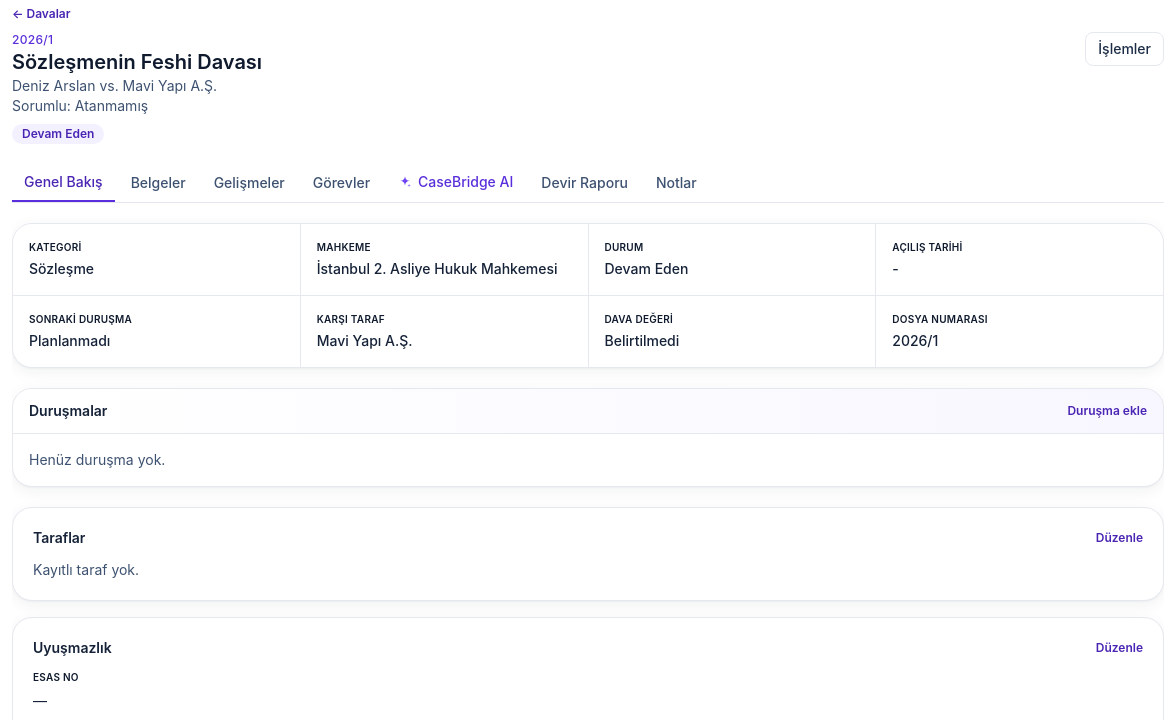
Test case: CaseDetailView › adds a development event to the timeline
Expected: the heading "Sözleşmenin Feshi Davası" is shown, [12, 48, 262, 76]
Click the tab "Gelişmeler" at (249, 183), box [202, 164, 297, 202]
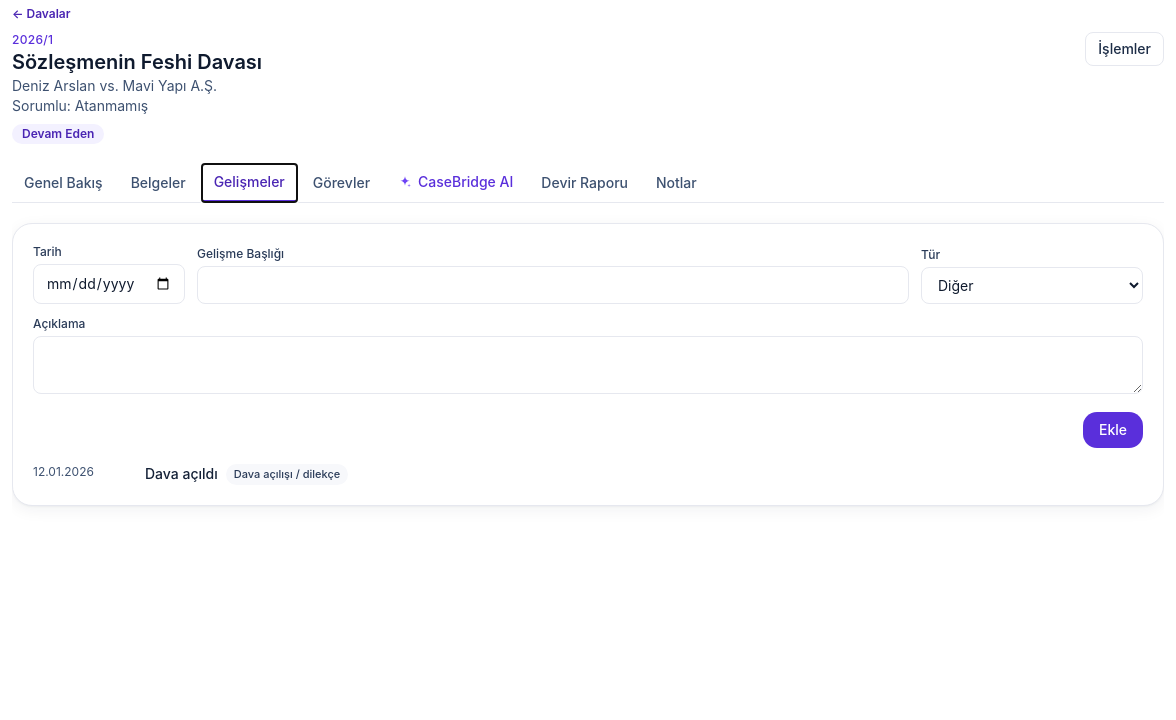
Type "Bilirkişi raporu alındı" into the field labelled "Gelişme Başlığı" at (553, 285), box [197, 266, 909, 304]
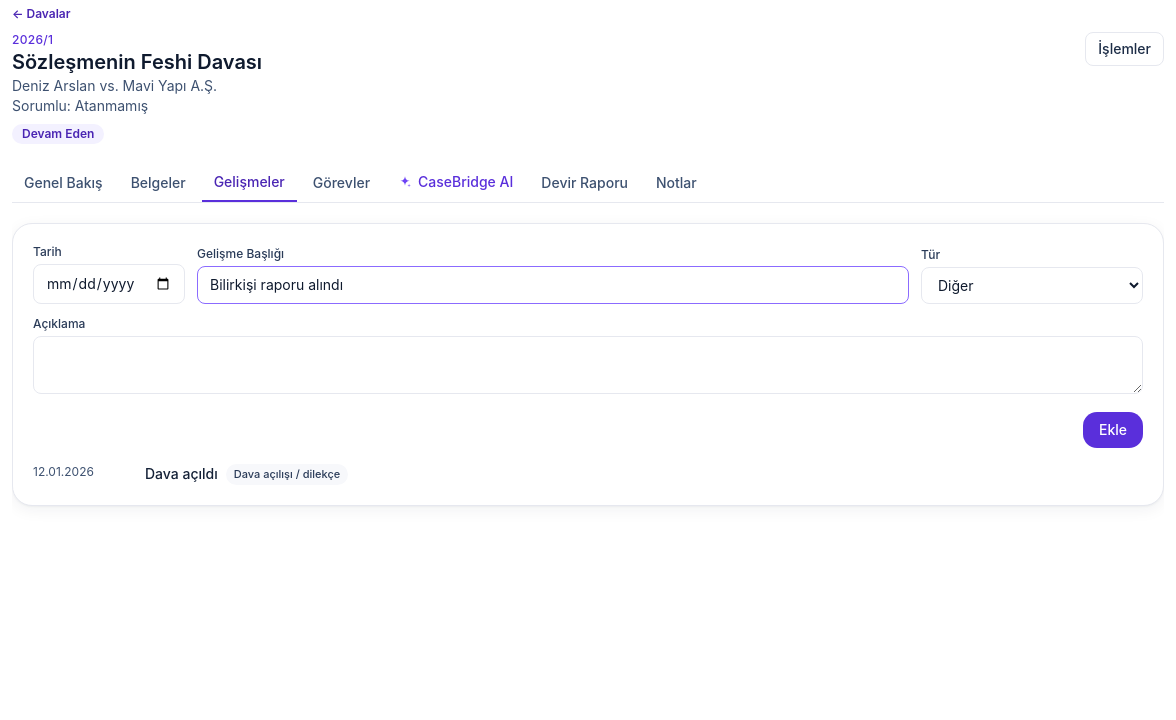
Type "2026-03-01" into the date field labelled "Tarih" at (109, 284), box [33, 264, 185, 304]
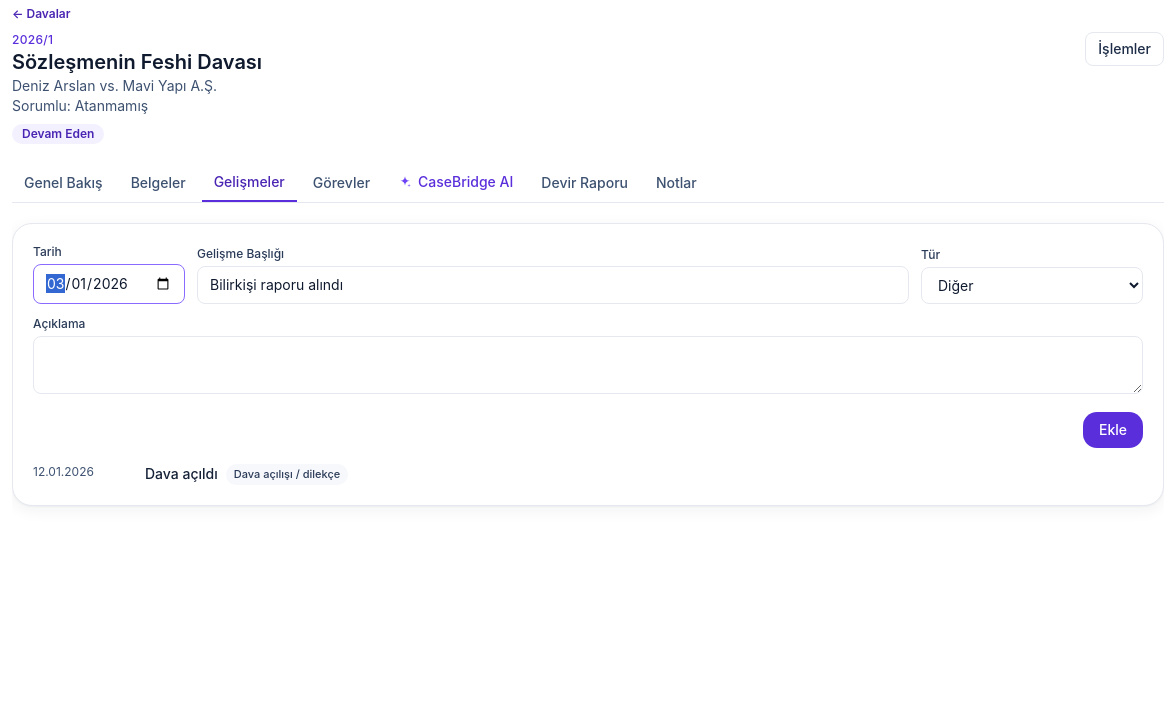
Click the button "Ekle" at (1113, 430), box [1083, 412, 1143, 448]
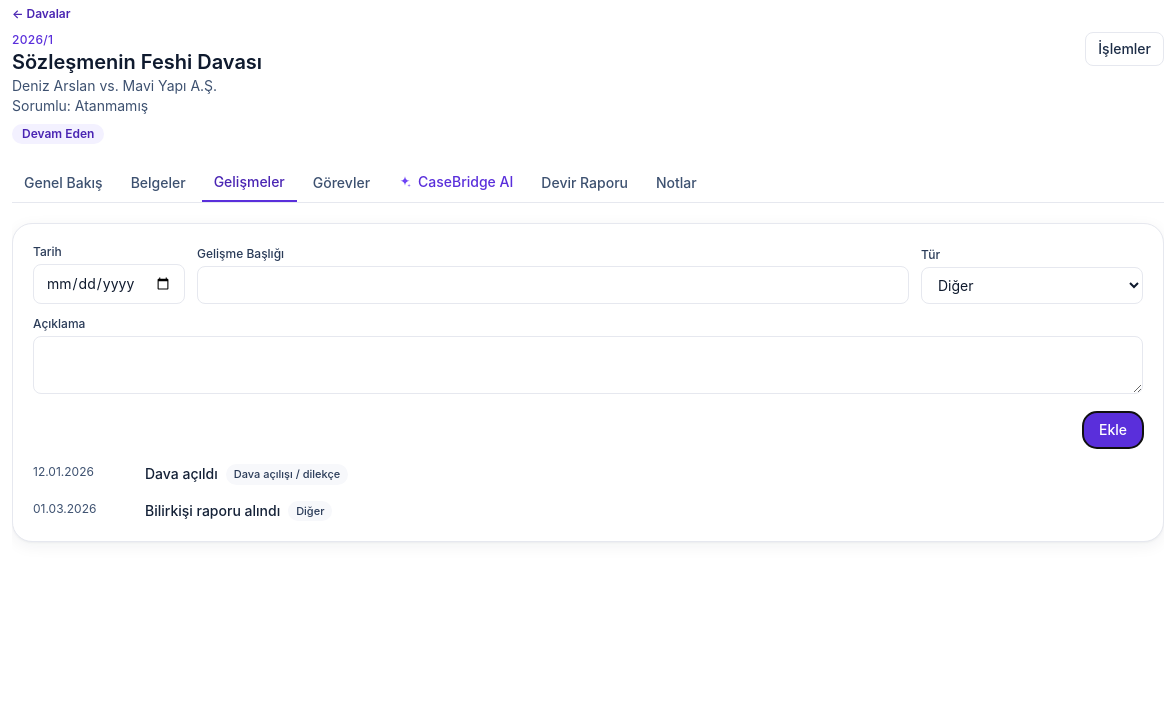
Expected: the text "Bilirkişi raporu alındı" is shown, [145, 501, 280, 521]
